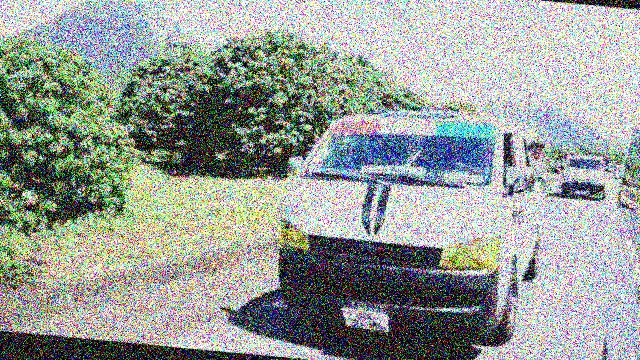van: (263, 92, 552, 356)
